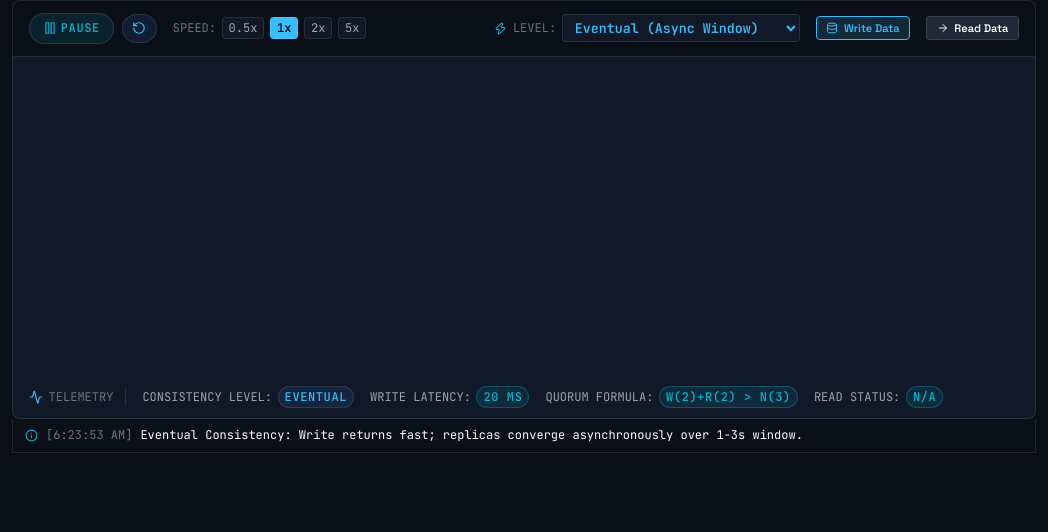
ConsistencyVisualizer (Catalog Viz #6) › switches between Weak, Eventual, and Strong consistency levels
Select "Strong (Quorum W + R > N)" in the dropdown showing "Eventual (Async Window)" at (681, 28), box [562,14,800,42]
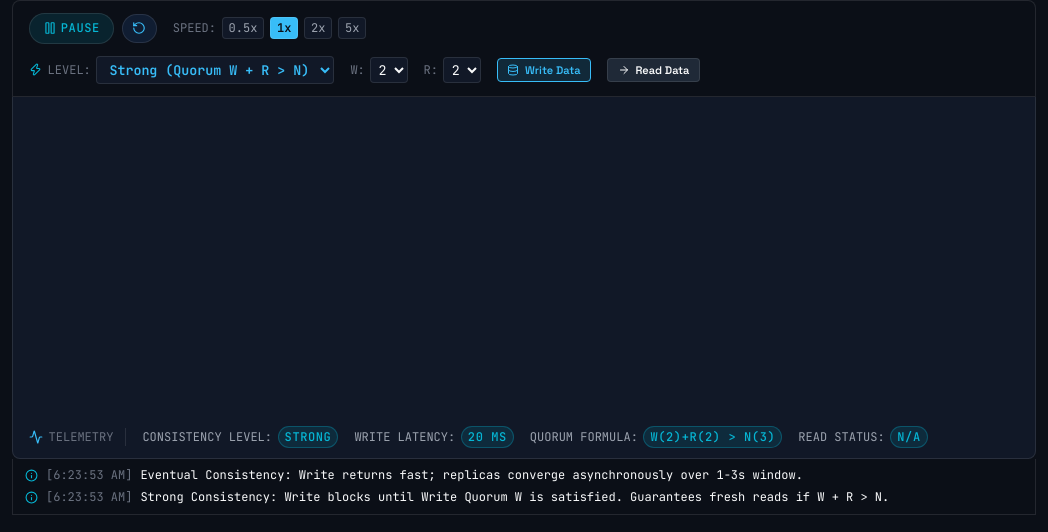
Now the text "W:" is shown, box [350,61,365,79]
Now the text "R:" is shown, box [424,61,438,79]
